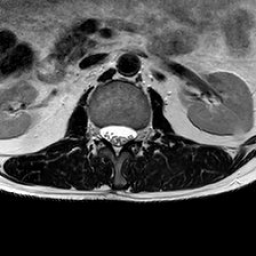CCS_normal: (110, 115, 122, 163)
LFS_normal: (133, 117, 144, 149)
LLS_normal: (122, 115, 133, 153)
RFS_normal: (89, 114, 100, 149)
RLS_normal: (99, 115, 110, 149)
